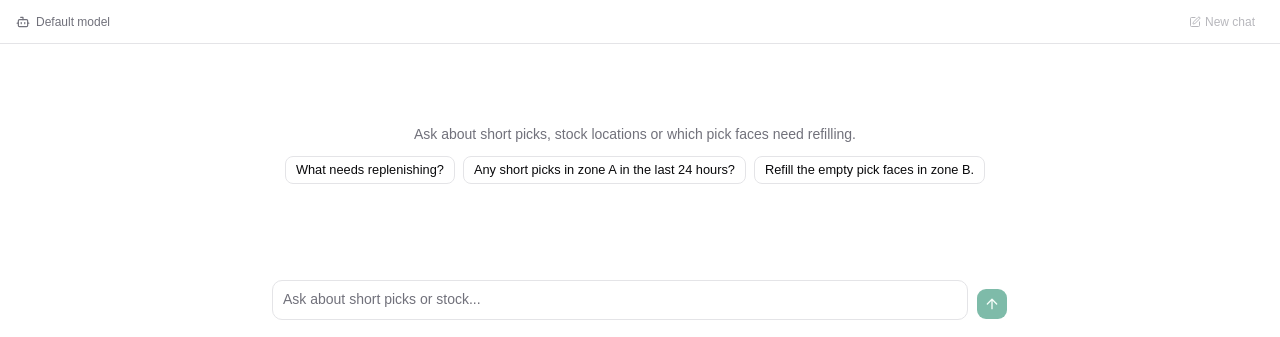
Scenario: Chat › shows API errors
Type "hi" into the text box named "Message" at [620, 300], box [272,280,968,320]
Then press Enter
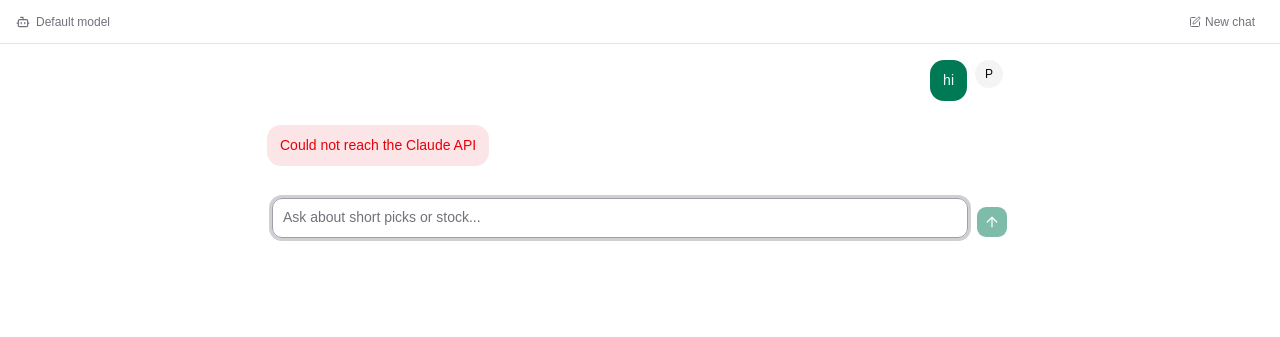
Expected: the button "Could not reach the Claude API" is shown, [267,125,489,166]
